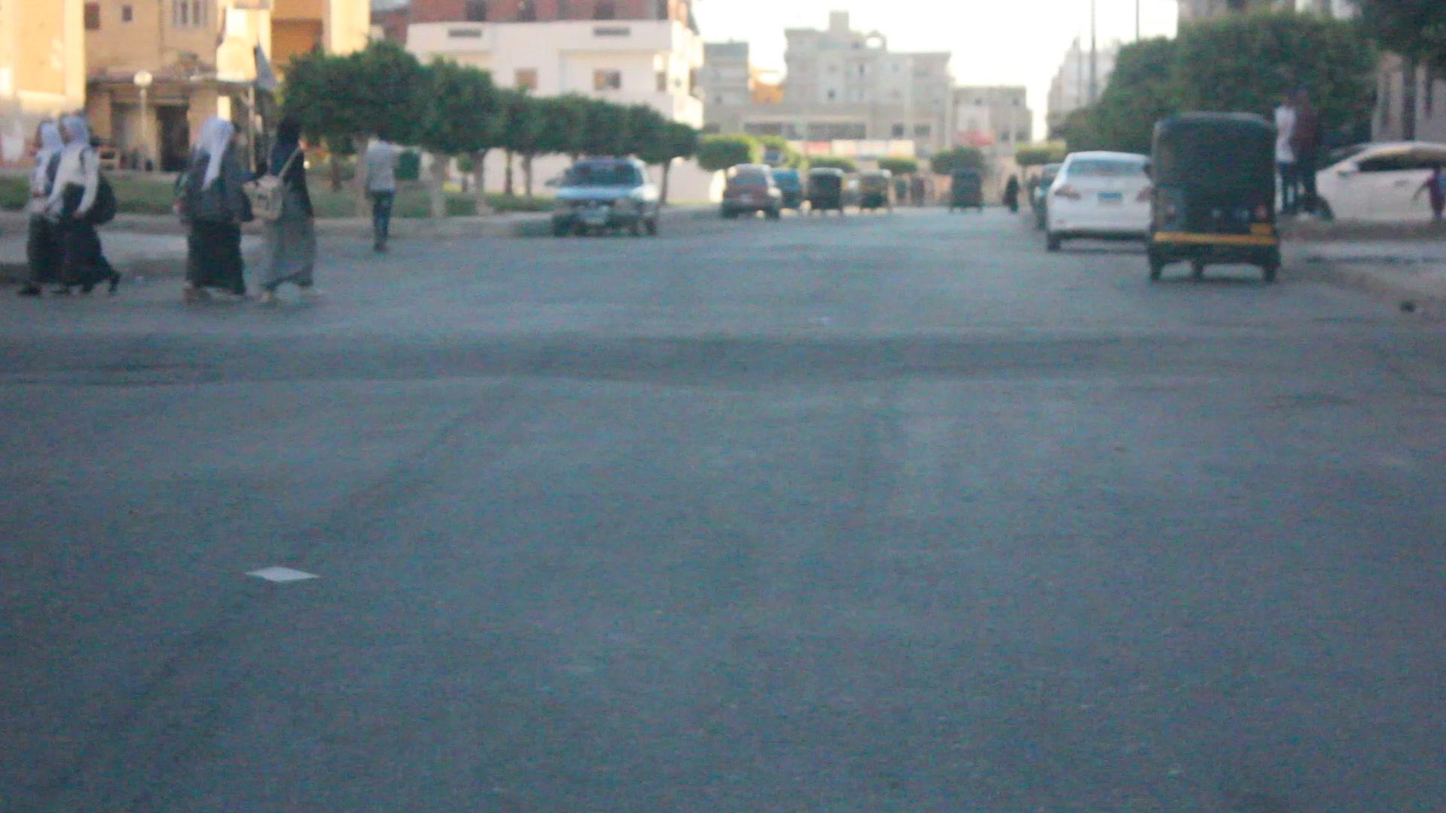Bump: (9, 318, 1446, 399)
